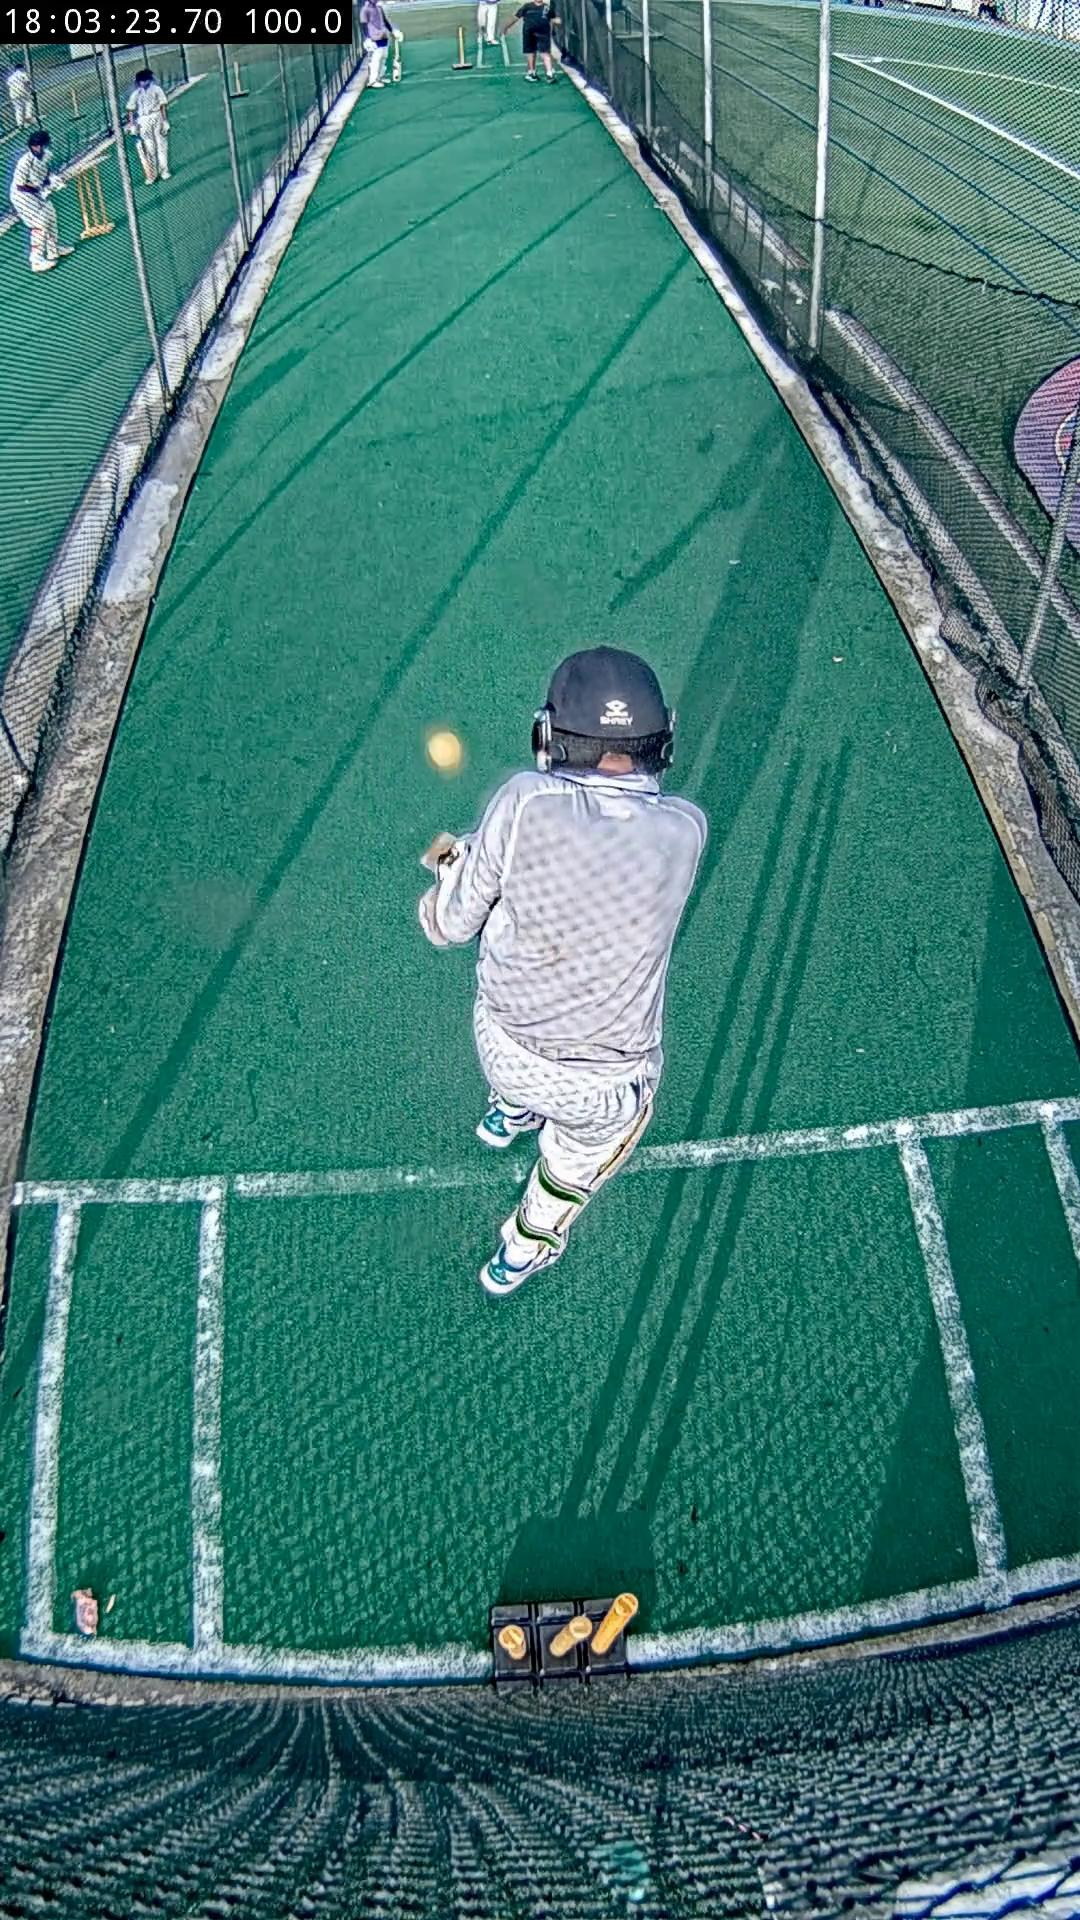ball: (427, 728, 465, 773)
bat: (419, 832, 458, 874)
helmet: (543, 645, 671, 773)
pads: (592, 1098, 653, 1191)
stumps: (492, 1594, 641, 1684)
